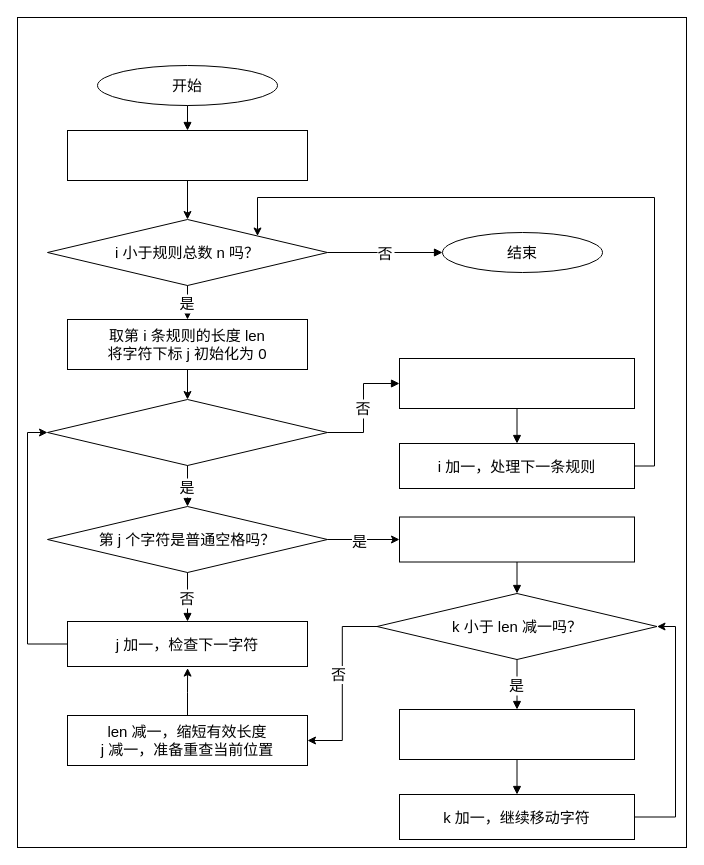
Some shapes in this 704 by 865 pixel diagram are drawn without their labels. The box of each missing label's shape, as (x1, y1, x2, y2) in pixels:
j 小于有效长度 len 吗？: (46, 398, 328, 466)
将移动下标 k 初始化为 j: (398, 516, 634, 562)
将第 i 条规则截取为 长度 len 的字符串: (398, 358, 634, 408)
将第 k+1 个字符复制到 第 k 个字符的位置: (398, 708, 634, 760)
读取规则总数 n 将 i 初始化为 0: (66, 130, 308, 180)
